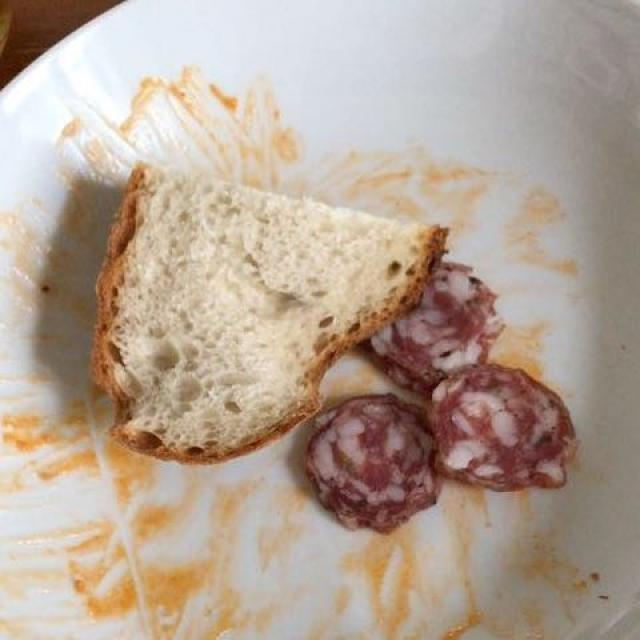bread: (98, 175, 430, 459)
salami: (305, 266, 570, 515)
